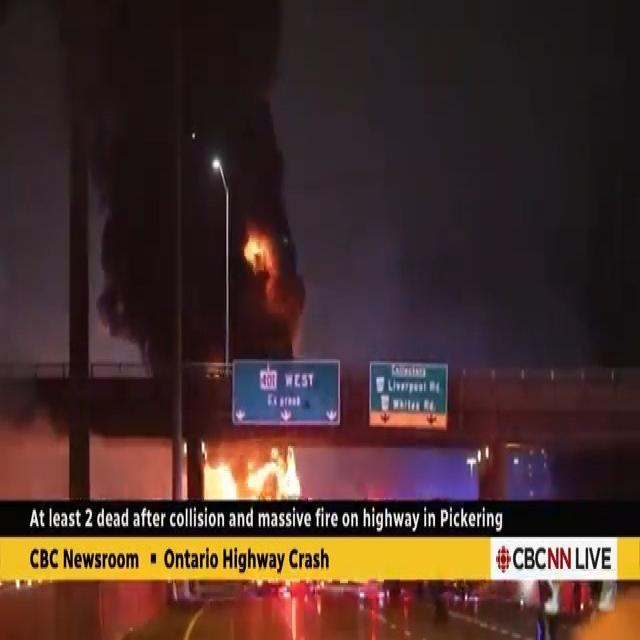Fire: (205, 438, 302, 503), (246, 215, 283, 286)
Smoke: (234, 21, 308, 364), (98, 6, 166, 348), (187, 10, 242, 148), (187, 195, 223, 348)
